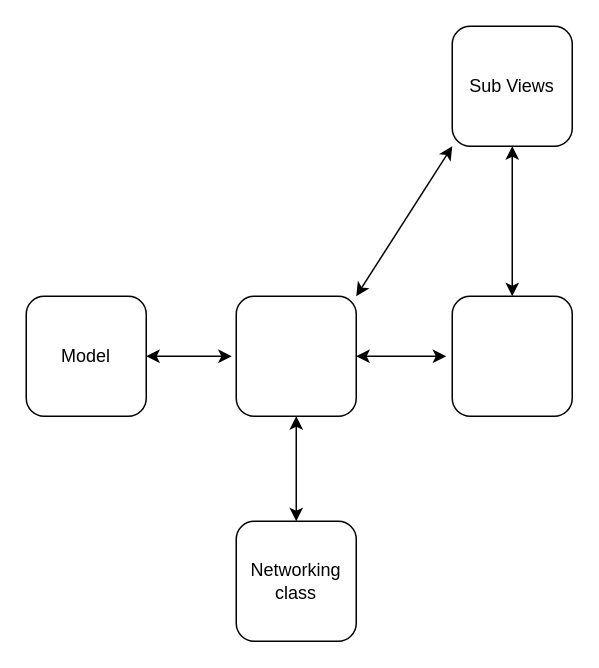
The diagram is 599 pixels wide and 668 high, and some of its shapes have lost their labels. The shapes that lost their labels are listed below. From the top down, each one's box as (x1, y1, x2, y2) in pixels, then its label:
(235, 295, 356, 416): ViewModel
(451, 295, 572, 416): Main View
